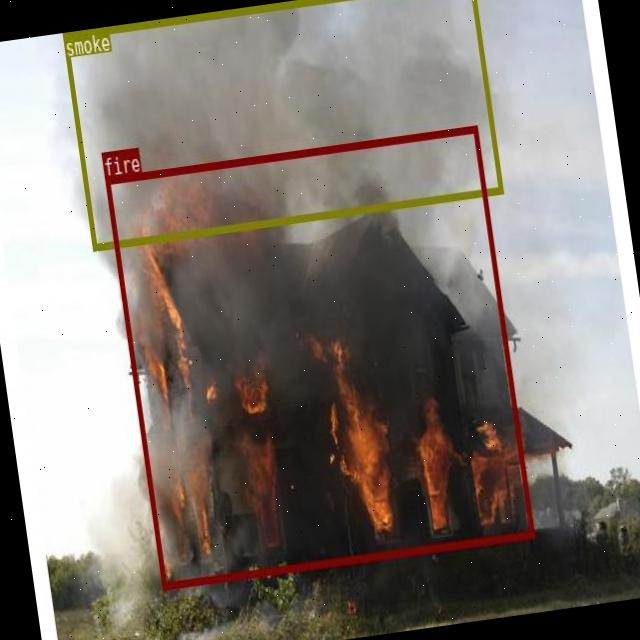fire: (104, 126, 534, 588)
smoke: (62, 0, 502, 248)
